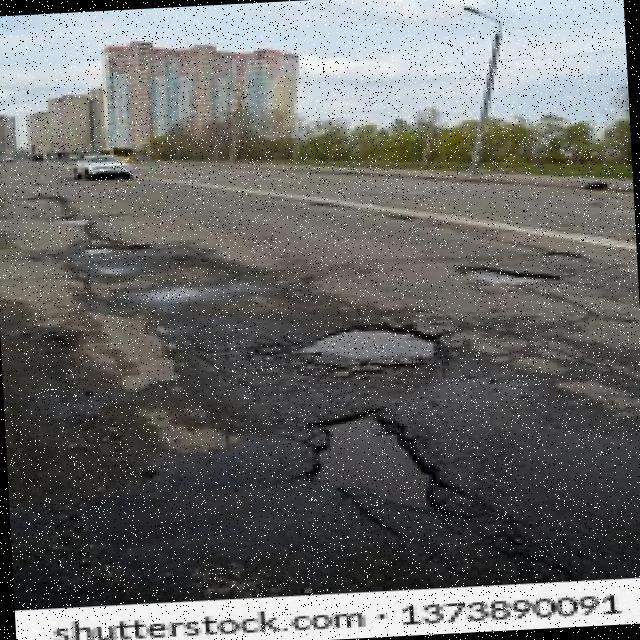Pothole: (310, 413, 446, 522), (304, 326, 437, 367), (456, 268, 556, 285)
